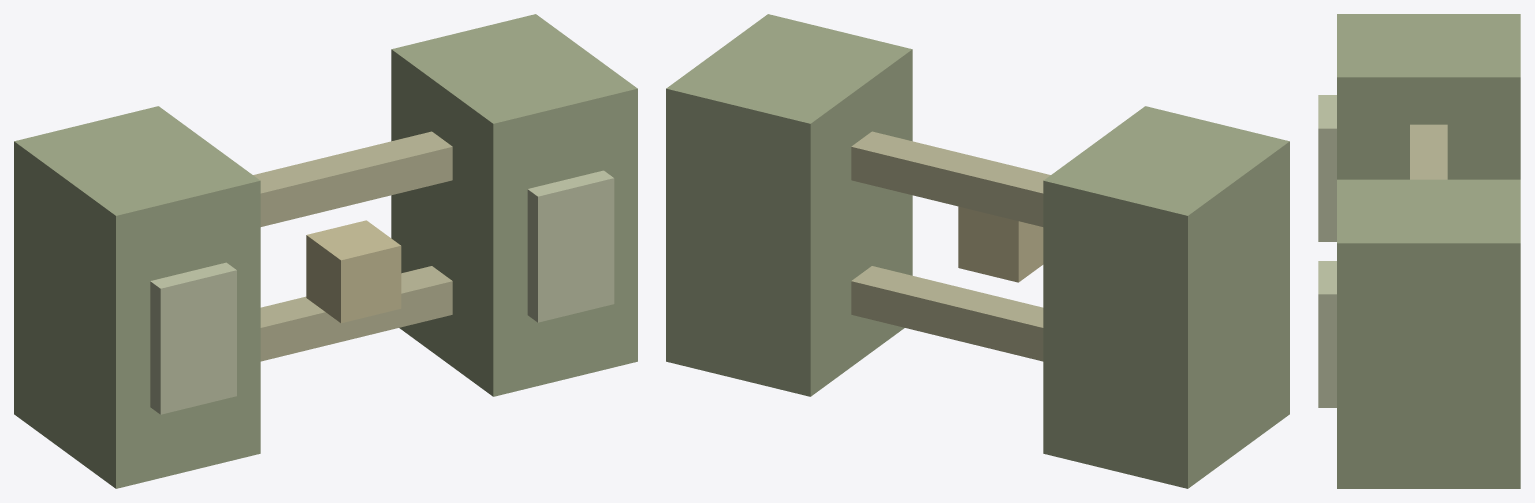
File: skill_api.glb
The picture shows the model from 3 angles, left to right: view 1: azimuth 30°, elevation 25°; view 2: azimuth 150°, elevation 25°; view 3: azimuth 270°, elevation 25°; orthographic projection. The views are drawn at different scales.
Parts seen in each view (by area): view 1: skill_api; view 2: skill_api; view 3: skill_api.
Part boxes in pixels (box(x1,y1,x2,y2)): skill_api: box(14, 14, 637, 488); skill_api: box(666, 14, 1289, 488); skill_api: box(1318, 14, 1520, 488).
Size of the model in its own units: 1.3 by 0.65 by 0.485.
